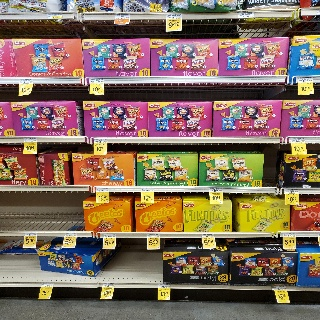All PRICE TAGS: (238, 12, 254, 18), (298, 77, 313, 83), (47, 13, 62, 19), (115, 14, 130, 20), (166, 13, 181, 19), (283, 232, 296, 238), (291, 138, 305, 143), (285, 189, 299, 194), (23, 138, 37, 143), (19, 79, 33, 84), (90, 78, 104, 83), (274, 285, 287, 290), (97, 187, 109, 192), (94, 139, 108, 143), (64, 233, 77, 237), (141, 187, 154, 191), (209, 188, 222, 192), (147, 234, 160, 238), (201, 233, 214, 237), (41, 283, 53, 287), (25, 233, 37, 237), (102, 283, 114, 287), (158, 284, 170, 288), (104, 234, 116, 237)
